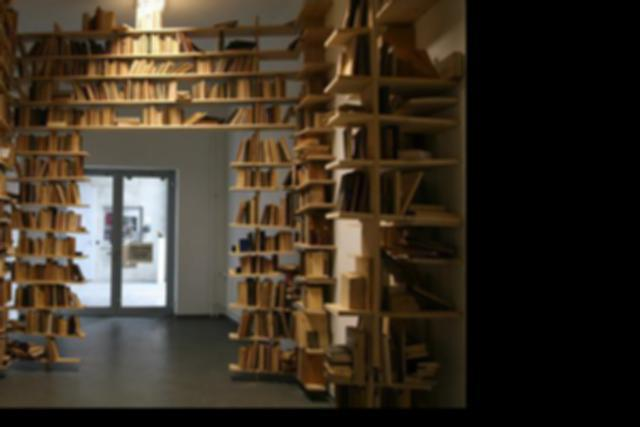Puerta: (65, 174, 173, 310)
